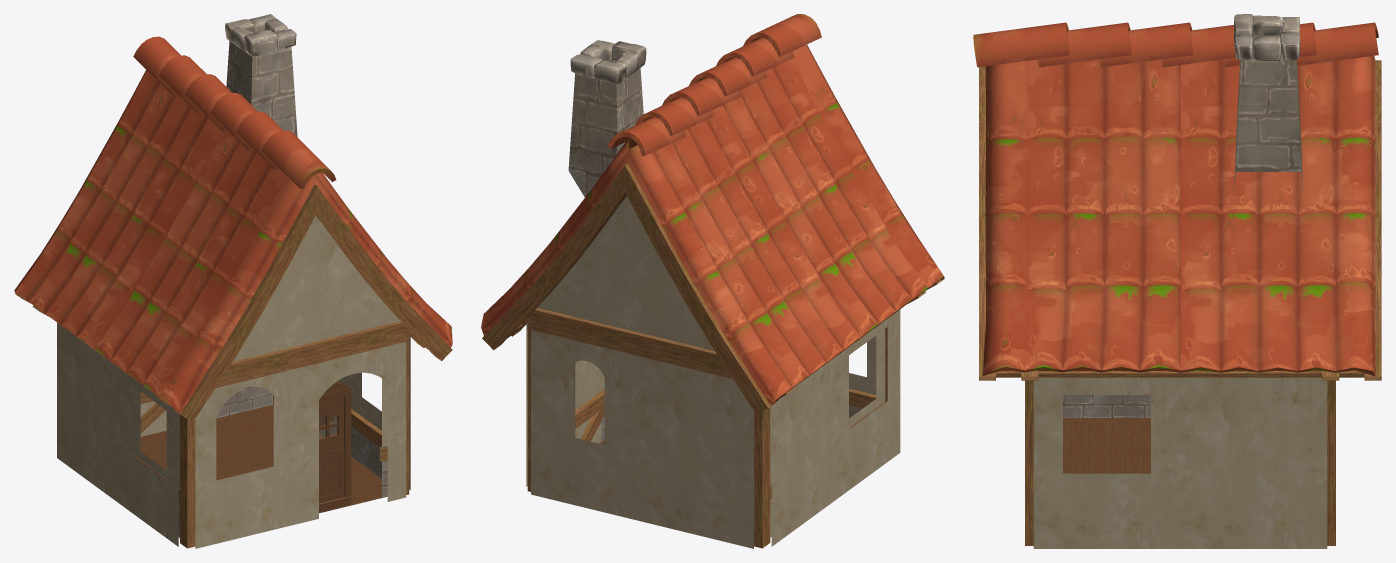
The picture shows the model from 3 angles, left to right: view 1: azimuth 30°, elevation 25°; view 2: azimuth 150°, elevation 25°; view 3: azimuth 270°, elevation 25°; orthographic projection. The views are drawn at different scales.
Visible parts, largest first — view 1: Roof_RoundTiles_4x4, Wall_Plaster_Door_Round, Floor_WoodDark, Roof_Front_Brick4, Prop_Chimney, Wall_Plaster_Window_Wide_Round; view 2: Roof_RoundTiles_4x4, Wall_Plaster_Door_Round, Roof_Front_Brick4, Prop_Chimney, Floor_WoodDark; view 3: Roof_RoundTiles_4x4, Wall_Plaster_Door_Round, Prop_Chimney, Floor_WoodDark, Wall_Plaster_Window_Wide_Round.
Part boxes in pixels (x1,y1,x2,y2): Roof_RoundTiles_4x4: (14, 36, 452, 413); Wall_Plaster_Door_Round: (15, 184, 452, 548); Floor_WoodDark: (140, 321, 413, 548); Roof_Front_Brick4: (232, 215, 400, 361); Prop_Chimney: (225, 14, 297, 136); Wall_Plaster_Window_Wide_Round: (178, 386, 381, 537); Roof_RoundTiles_4x4: (481, 14, 944, 405); Wall_Plaster_Door_Round: (482, 164, 944, 548); Roof_Front_Brick4: (537, 196, 714, 350); Prop_Chimney: (568, 40, 646, 197); Floor_WoodDark: (523, 308, 887, 548); Roof_RoundTiles_4x4: (973, 22, 1378, 376); Wall_Plaster_Door_Round: (979, 60, 1381, 548); Prop_Chimney: (1234, 14, 1303, 195); Floor_WoodDark: (1025, 380, 1335, 545); Wall_Plaster_Window_Wide_Round: (1063, 395, 1150, 417).
Size of the model in its own units: 5.51 by 7.39 by 5.56.
6 materials, 5 textured.
